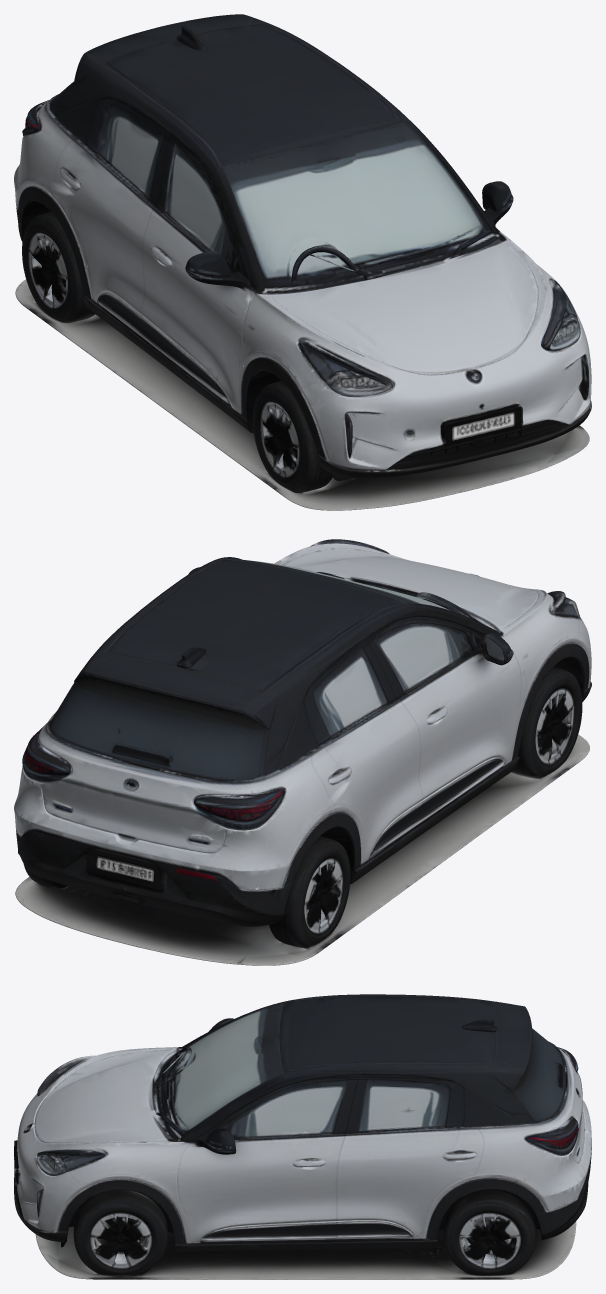
Rendered from showroom-car.glb.
3 views of the same model, one above another, from view 1: azimuth 30°, elevation 25°; view 2: azimuth 150°, elevation 25°; view 3: azimuth 270°, elevation 25° (orthographic). The views are drawn at different scales.
Parts seen in each view (by area): view 1: node_0; view 2: node_0; view 3: node_0.
Boxes of the visible parts, x1,y1,x2,y2 form: node_0: (14,14,591,510); node_0: (14,539,591,965); node_0: (14,994,591,1279).
Bounding box in the file's own units: 0.5911 × 0.4568 × 1.15.
Materials: 1 (1 with a texture image).
